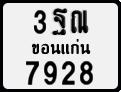letters: (70, 9, 89, 35), (52, 8, 68, 36), (60, 61, 77, 86), (24, 60, 40, 86), (42, 60, 58, 86), (32, 9, 47, 36), (79, 60, 94, 85)
province: (30, 38, 91, 56)
